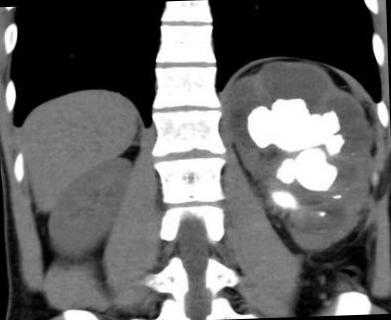Tas_Var: (241, 94, 349, 158), (269, 145, 358, 193), (264, 188, 304, 211), (316, 208, 328, 220), (331, 191, 343, 201), (348, 150, 356, 158), (344, 186, 348, 193)
